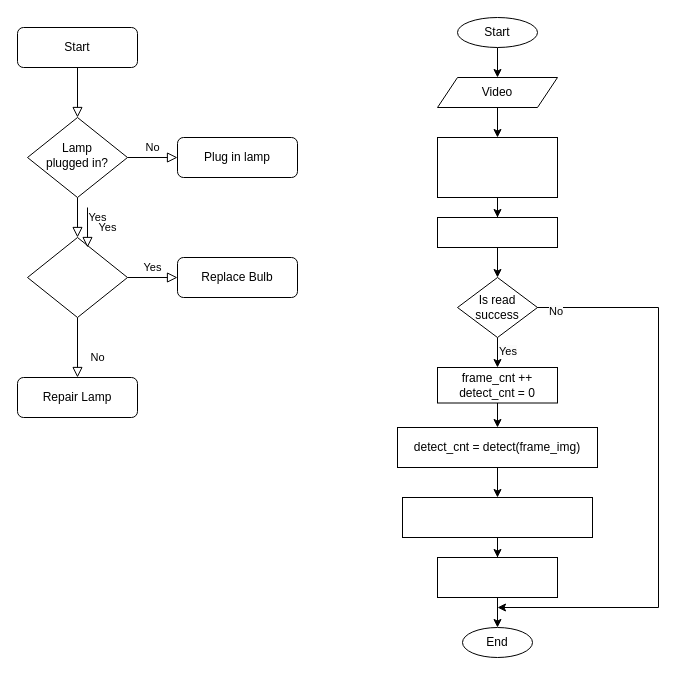
The diagram is 684 pixels wide and 675 high, and some of its shapes have lost their labels. The shapes that lost their labels are listed below. From the top down, each one's centre as x and y in pixels, then its label:
pixel 497 167: Initialize, frame_cnt = 0 avg_cnt = 0
pixel 497 232: Read frame
pixel 77 277: Bulb burned out?
pixel 497 517: avg_cnt = detect_cnt / frame_cnt
pixel 497 577: Display avg_cnt
